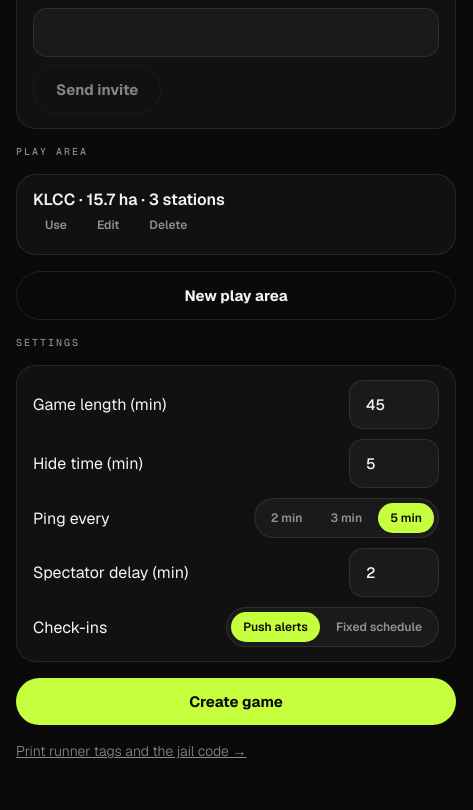
Scenario: HostNew › asks for a play area before creating
(page scrolled)
Expected: the text "KLCC · 15.7 ha · 3 stations" is shown, [33,189,225,210]
What coordinates should you click on to do the following:
click the button "Create game"
I would click on:
 (236, 702)
Its box is [16,678,456,725].
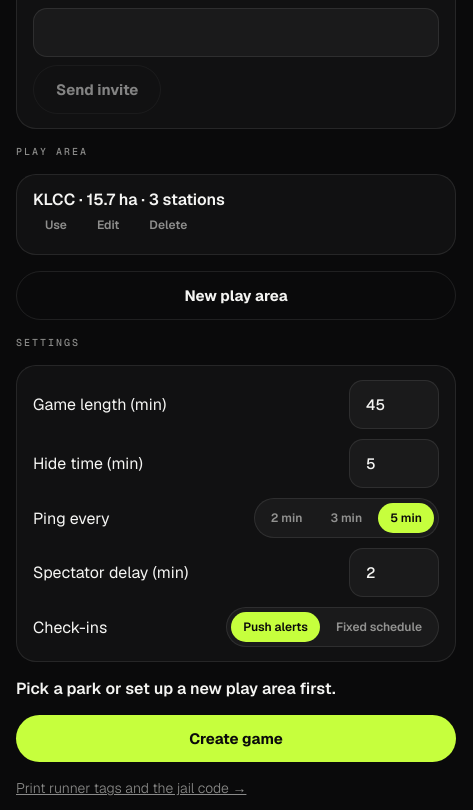
Now the text "Pick a park or set up a new play area first." is shown, box [16,678,336,699]
